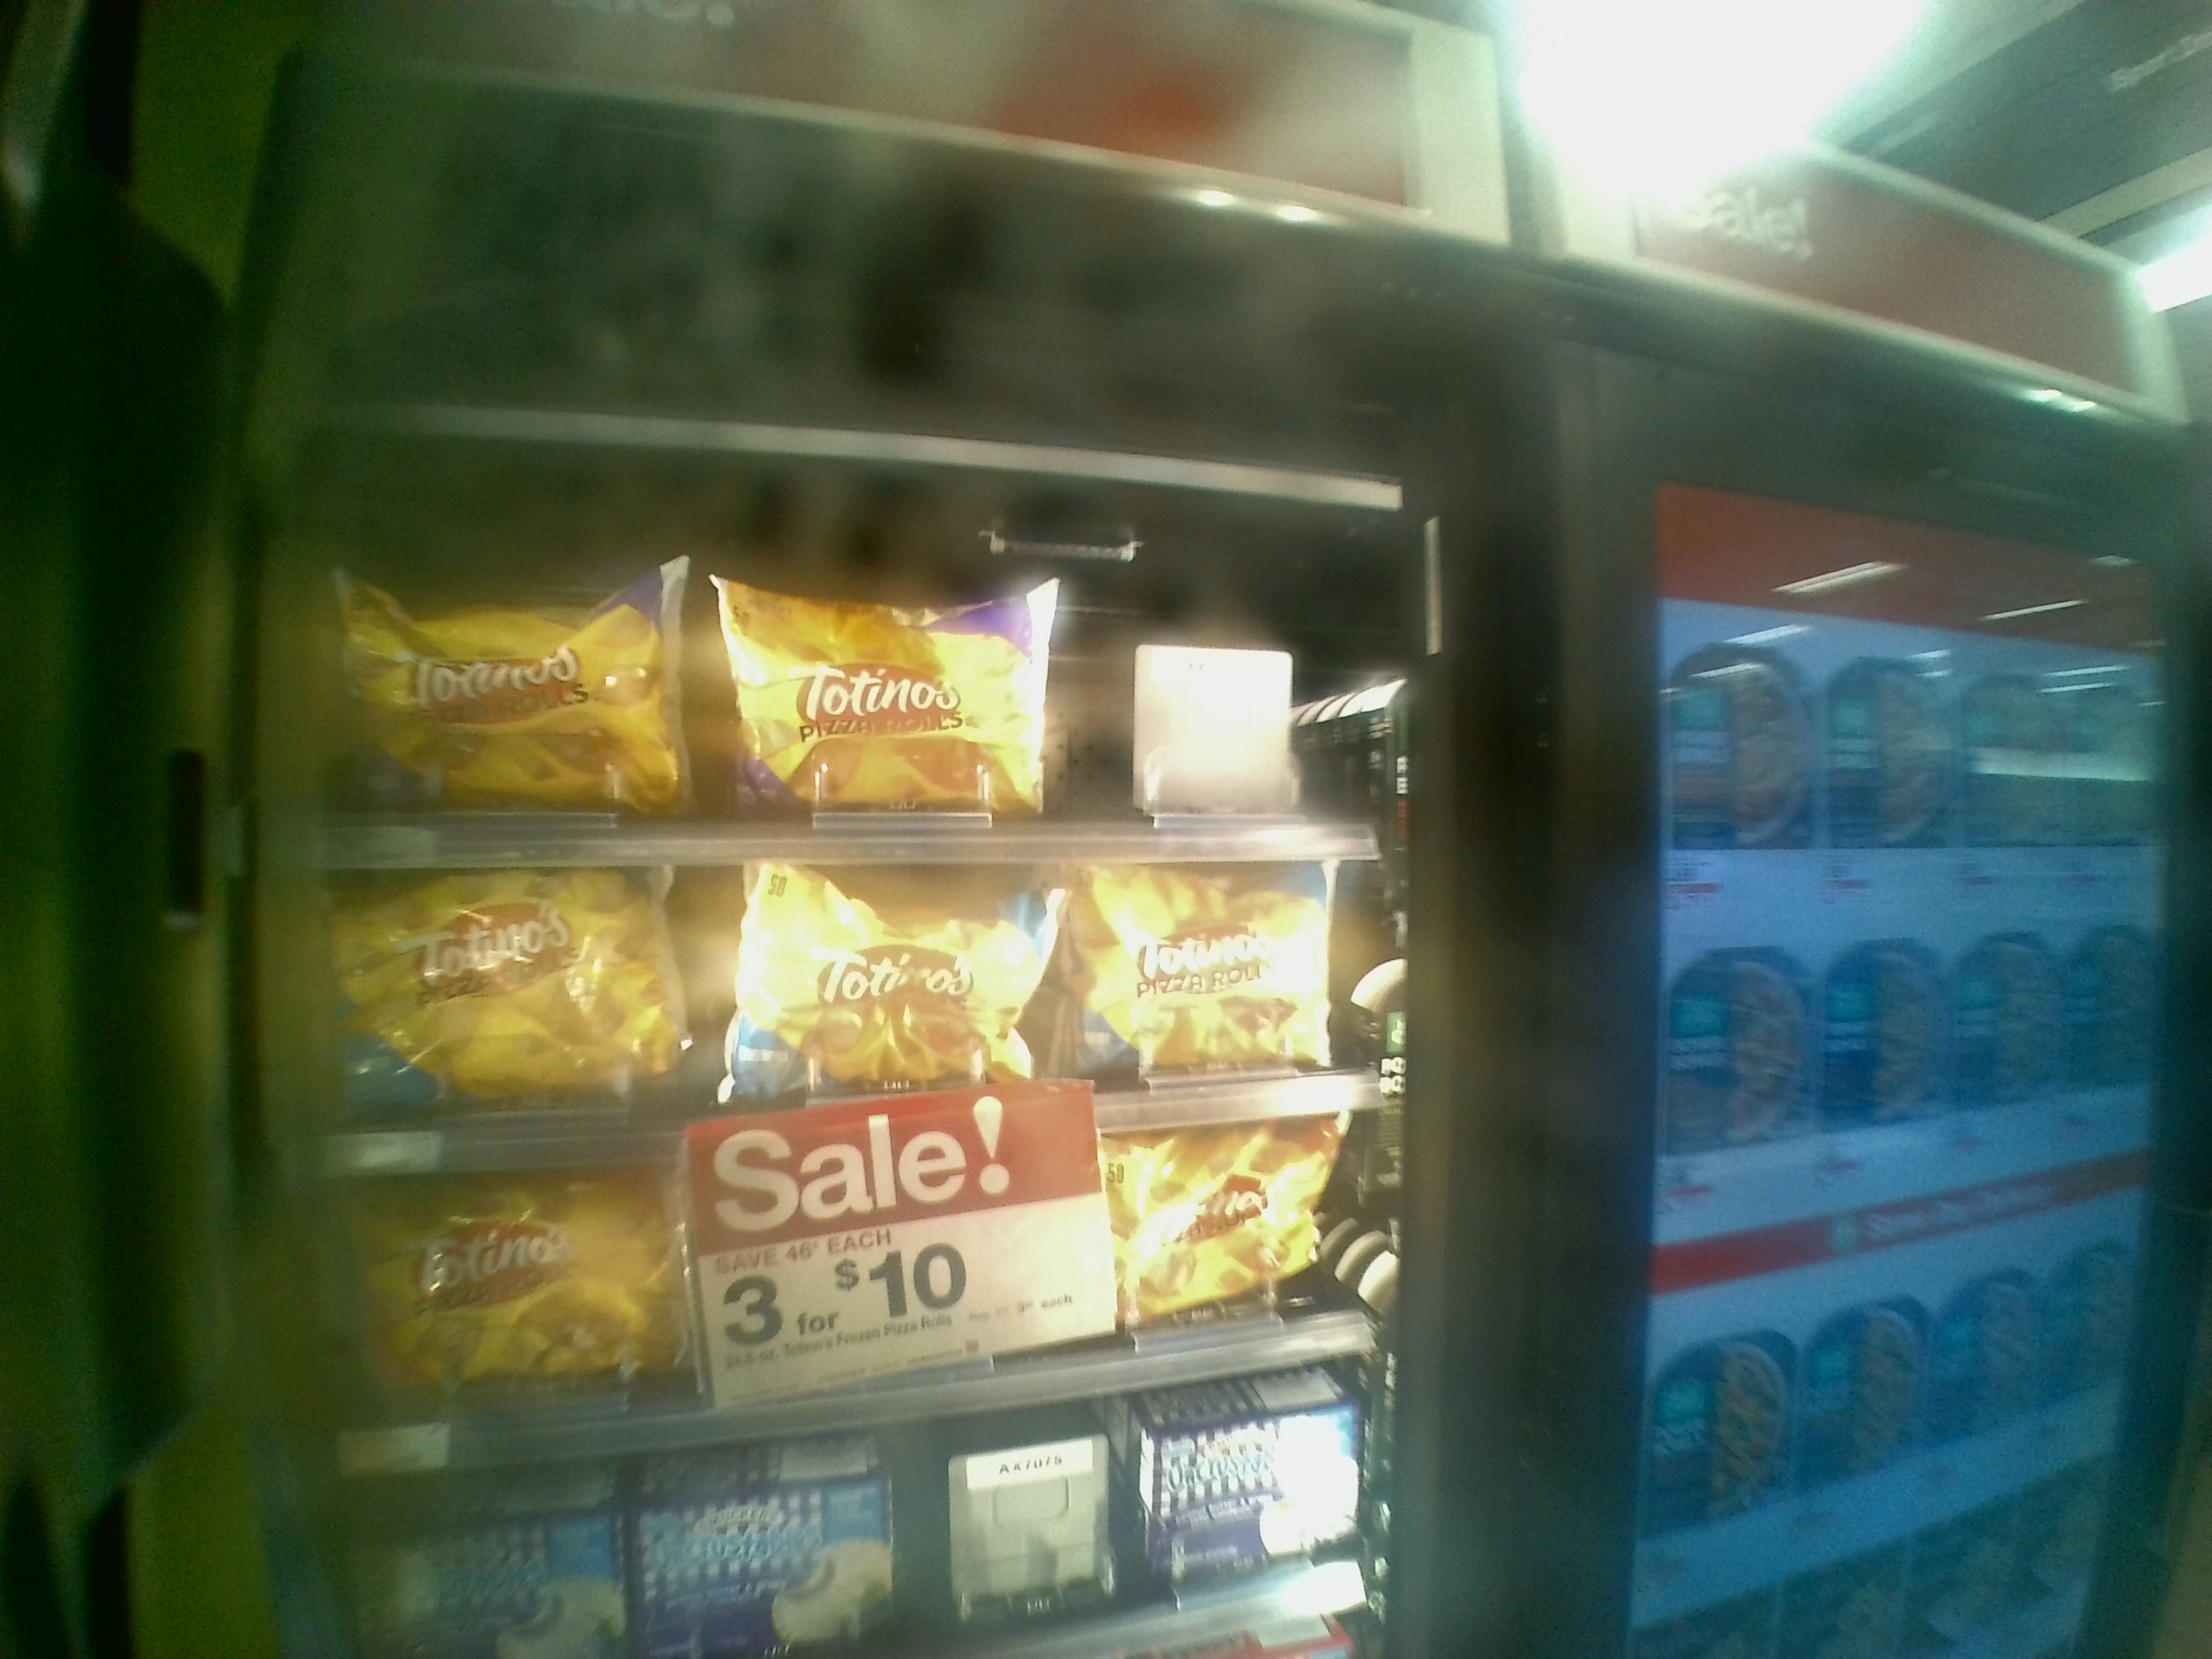shelf: (247, 518, 1393, 864), (232, 1143, 1390, 1425), (226, 856, 1393, 1122)
